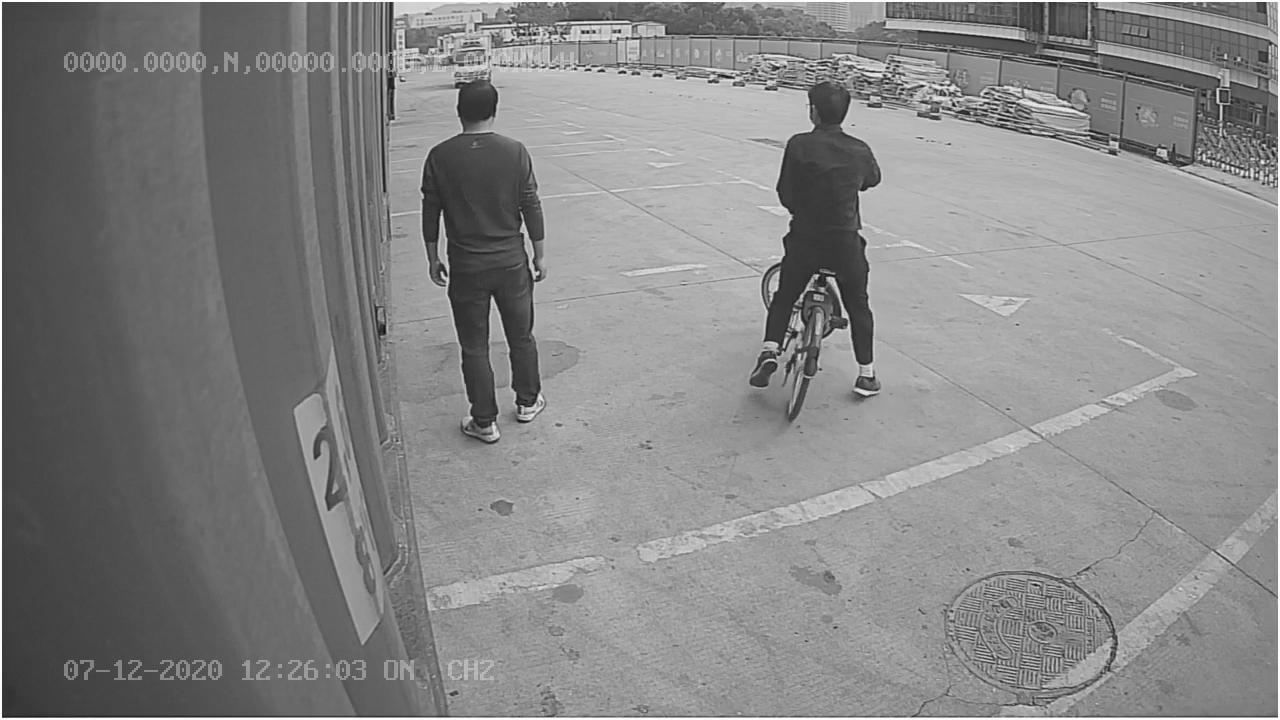person: (414, 73, 551, 451)
